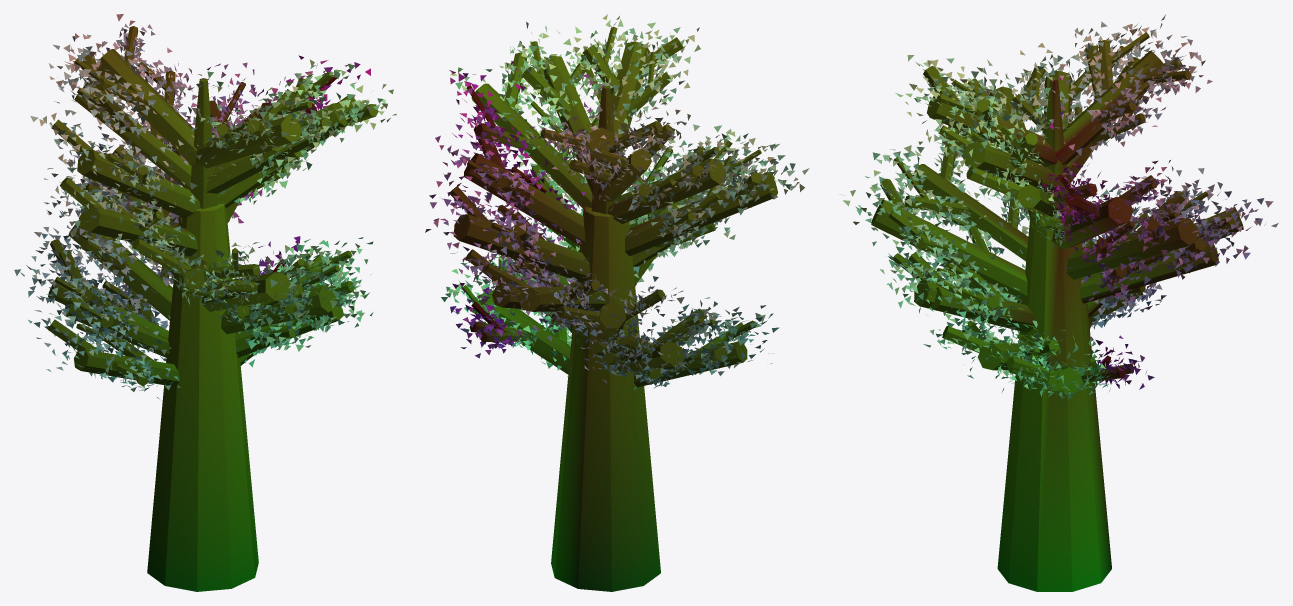
The model's file is ecological_broadleaf_ancient_02.glb.
3 renders of one model, left to right at view 1: azimuth 30°, elevation 25°; view 2: azimuth 150°, elevation 25°; view 3: azimuth 270°, elevation 25°, orthographic.
Visible parts, largest first — view 1: ecological_broadleaf_ancient_02; view 2: ecological_broadleaf_ancient_02; view 3: ecological_broadleaf_ancient_02.
Boxes of the visible parts, x1,y1,x2,y2 form: ecological_broadleaf_ancient_02: [14, 14, 396, 591]; ecological_broadleaf_ancient_02: [425, 14, 809, 591]; ecological_broadleaf_ancient_02: [841, 15, 1278, 591].
Bounding box in the file's own units: 53.47 × 75.44 × 59.22.
